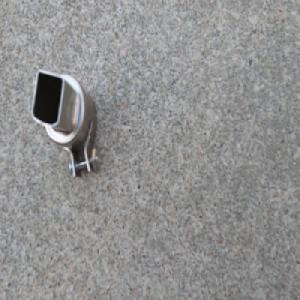MetalPart: (29, 67, 101, 179)
